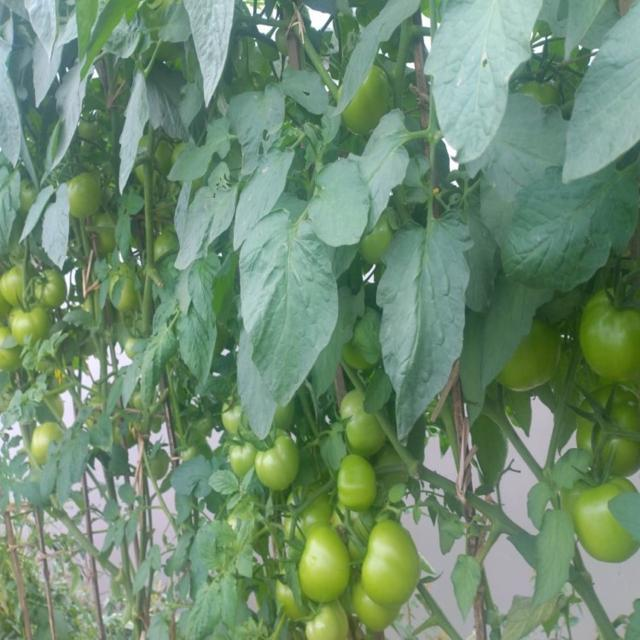tomato: (561, 476, 640, 562), (578, 280, 640, 379), (572, 386, 640, 475), (361, 519, 427, 603), (288, 521, 351, 601), (500, 319, 562, 395), (335, 65, 395, 137), (338, 388, 388, 453), (257, 431, 300, 499), (332, 458, 381, 515), (345, 582, 398, 631), (226, 434, 263, 487), (301, 606, 353, 640), (62, 176, 104, 218), (133, 134, 170, 180), (364, 212, 395, 263), (2, 261, 36, 306), (520, 75, 568, 105), (15, 309, 59, 341), (109, 263, 137, 312), (143, 445, 176, 484), (37, 266, 68, 307), (152, 228, 185, 263), (34, 421, 60, 463), (1, 325, 22, 375), (278, 572, 299, 616), (223, 387, 243, 431), (18, 175, 42, 211), (94, 222, 120, 252), (78, 114, 101, 136), (125, 333, 140, 359)
